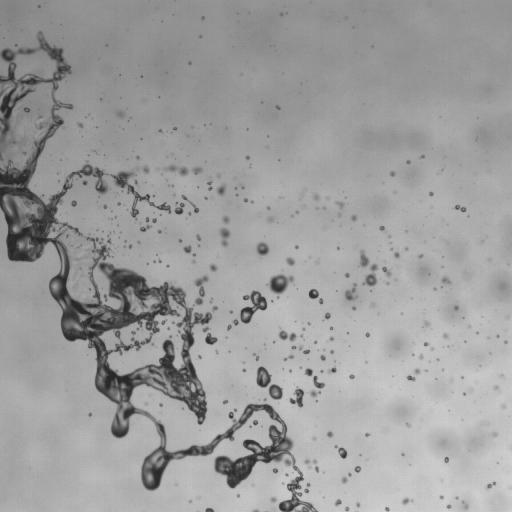droplet: (110, 165, 170, 219), (232, 290, 267, 325), (266, 273, 294, 298), (305, 368, 324, 398), (289, 387, 304, 407), (219, 228, 230, 246), (304, 459, 319, 472), (345, 283, 356, 300), (256, 242, 269, 255), (335, 445, 347, 458), (216, 183, 226, 195), (175, 203, 184, 214), (382, 266, 391, 276), (401, 497, 412, 504), (286, 257, 295, 265), (192, 167, 202, 174), (117, 110, 125, 118), (183, 245, 191, 253), (441, 276, 450, 283), (327, 367, 336, 374), (336, 201, 344, 208), (222, 216, 229, 224), (209, 264, 217, 271), (303, 483, 309, 492), (334, 499, 341, 506), (407, 375, 415, 381), (324, 313, 330, 320), (354, 466, 361, 472), (341, 476, 347, 483), (77, 122, 83, 128), (313, 194, 319, 200), (267, 216, 273, 222), (423, 321, 429, 327), (442, 333, 448, 339), (414, 368, 420, 374), (326, 431, 332, 437), (491, 431, 497, 437), (270, 497, 276, 503), (38, 111, 43, 118), (463, 502, 468, 509), (394, 252, 399, 258), (72, 283, 77, 289), (253, 354, 258, 360), (390, 171, 395, 176), (82, 180, 87, 185), (71, 201, 76, 206), (351, 215, 356, 220), (379, 226, 384, 231), (320, 355, 325, 360), (349, 374, 354, 379), (493, 385, 498, 390), (252, 420, 257, 425), (196, 234, 200, 240), (501, 403, 505, 409), (444, 457, 448, 463), (454, 305, 458, 310), (227, 325, 231, 330), (419, 354, 423, 359), (222, 400, 227, 404), (273, 468, 277, 473), (446, 504, 451, 508), (406, 160, 410, 164), (429, 192, 433, 196), (152, 218, 156, 222), (345, 273, 349, 277), (370, 303, 374, 307), (352, 306, 356, 310), (329, 337, 333, 341), (424, 342, 428, 346), (406, 423, 410, 427), (345, 507, 349, 511), (385, 507, 389, 511), (158, 129, 162, 132), (420, 155, 424, 158), (244, 198, 248, 201), (103, 205, 107, 208), (157, 230, 161, 233), (404, 247, 408, 250), (419, 254, 422, 258), (366, 333, 369, 337), (242, 368, 245, 372), (365, 433, 369, 436), (440, 495, 443, 499), (356, 503, 360, 506), (276, 106, 279, 109), (173, 127, 176, 130), (246, 156, 249, 159), (217, 174, 220, 177), (128, 245, 131, 248), (295, 245, 298, 248), (229, 310, 232, 313), (132, 331, 135, 334), (300, 334, 303, 337), (330, 350, 333, 353), (500, 374, 503, 377), (159, 403, 162, 406), (348, 473, 351, 476), (210, 298, 212, 302), (136, 156, 139, 158), (267, 206, 269, 209), (179, 239, 181, 242), (158, 259, 160, 262), (192, 260, 195, 262), (308, 322, 310, 325), (330, 327, 333, 329), (496, 335, 499, 337), (431, 347, 433, 350), (463, 392, 465, 395), (88, 413, 91, 415), (312, 437, 315, 439), (509, 486, 511, 489), (202, 17, 204, 19), (170, 184, 172, 186), (241, 186, 243, 188), (118, 202, 120, 204), (188, 212, 190, 214), (386, 282, 388, 284), (167, 327, 169, 329), (314, 341, 316, 343), (198, 356, 200, 358), (321, 370, 323, 372), (486, 422, 488, 424), (286, 473, 288, 475)
ligament: (2, 31, 318, 511), (257, 366, 282, 400), (359, 250, 377, 286), (278, 328, 298, 342), (163, 165, 188, 176), (308, 288, 323, 304), (291, 345, 309, 353), (140, 218, 150, 231), (190, 202, 198, 212), (454, 205, 466, 211), (485, 482, 495, 489), (283, 354, 293, 360), (207, 179, 212, 190), (107, 235, 112, 244), (205, 507, 214, 511), (181, 195, 188, 200), (252, 509, 260, 511), (268, 510, 274, 511)
